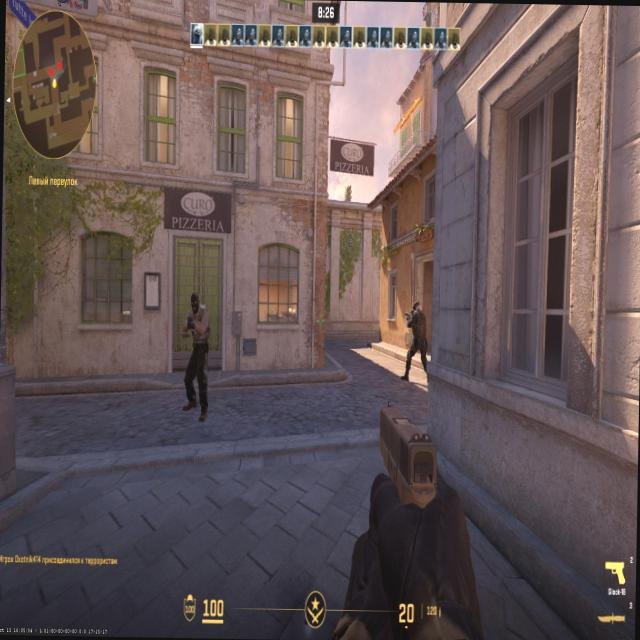CT: (411, 302, 426, 359)
CT_heat: (412, 300, 419, 312)
T: (188, 296, 208, 398)
T_heat: (192, 298, 200, 312)
